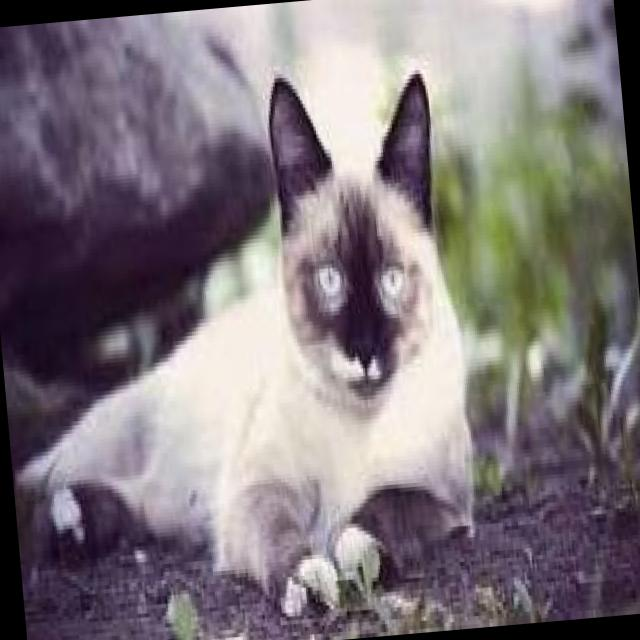Gato: (0, 52, 492, 640)
